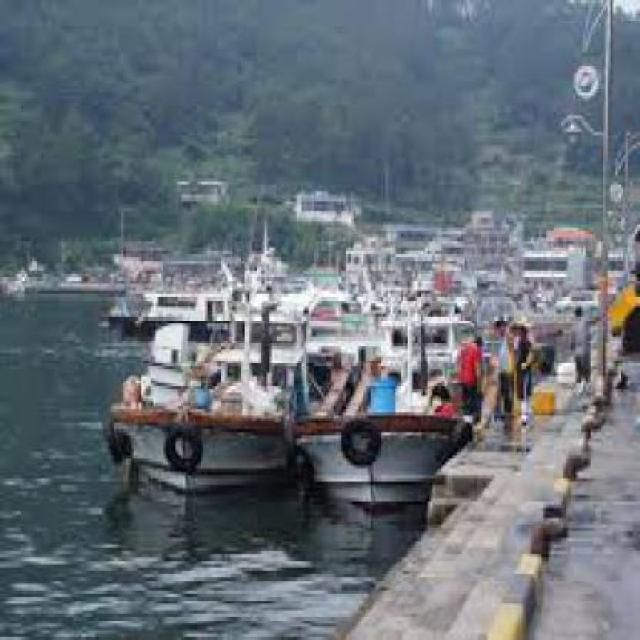fish-b: (102, 318, 308, 499), (285, 331, 480, 516)
